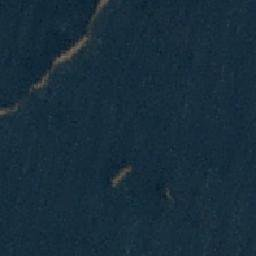debris: (30, 70, 54, 93), (110, 164, 135, 186), (89, 1, 107, 27), (66, 39, 86, 56), (1, 101, 22, 117), (162, 181, 175, 204), (50, 53, 66, 70)
